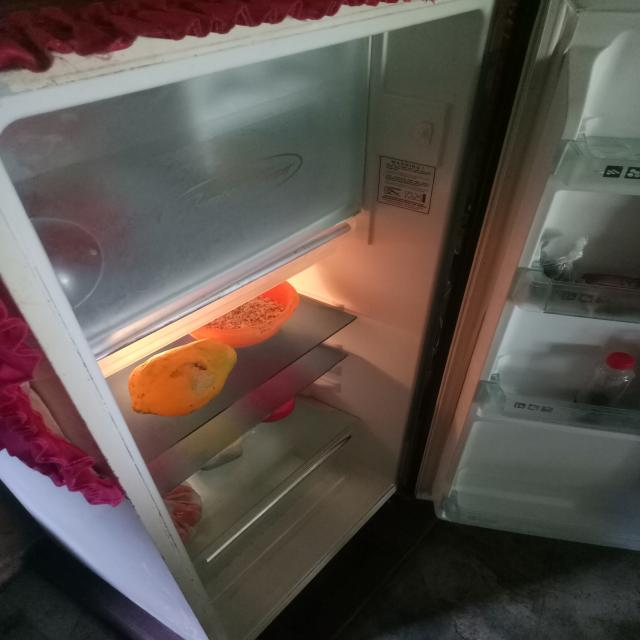Pepaya rippen: (121, 341, 241, 418)
